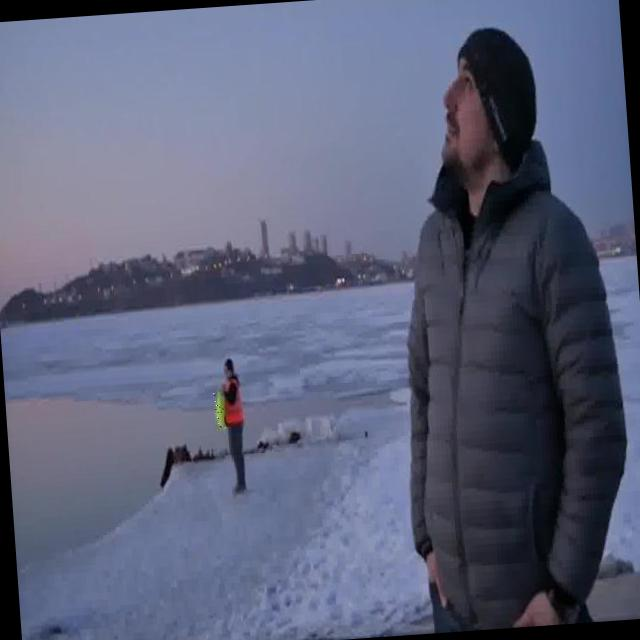safety_vest: (220, 377, 243, 428), (213, 388, 226, 428)
